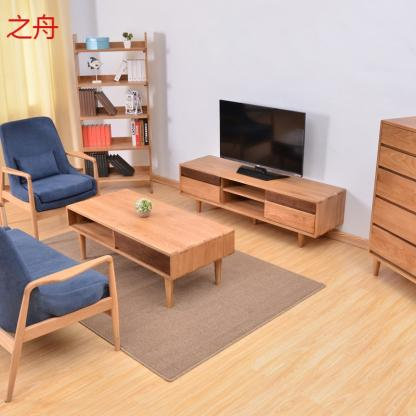Shelf: (73, 31, 150, 190)
TV stand: (174, 92, 350, 253)
